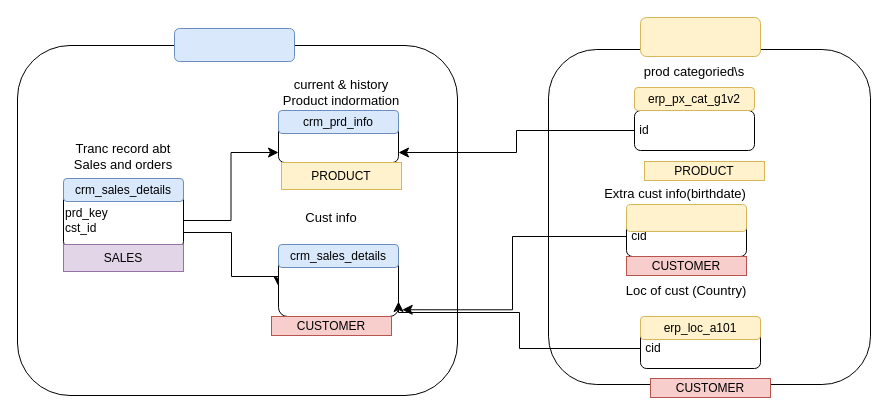
Image size: 888x415. Some labels were removed from this diagram. The centre of each missing label's shape, as x and y in pixels:
"CRM" belongs at pixel 234 45.
"cst_id cst_key" belongs at pixel 338 286.
"ERP" belongs at pixel 700 36.
"erp_cust_az12" belongs at pixel 686 218.
"prd_key" belongs at pixel 338 142.
